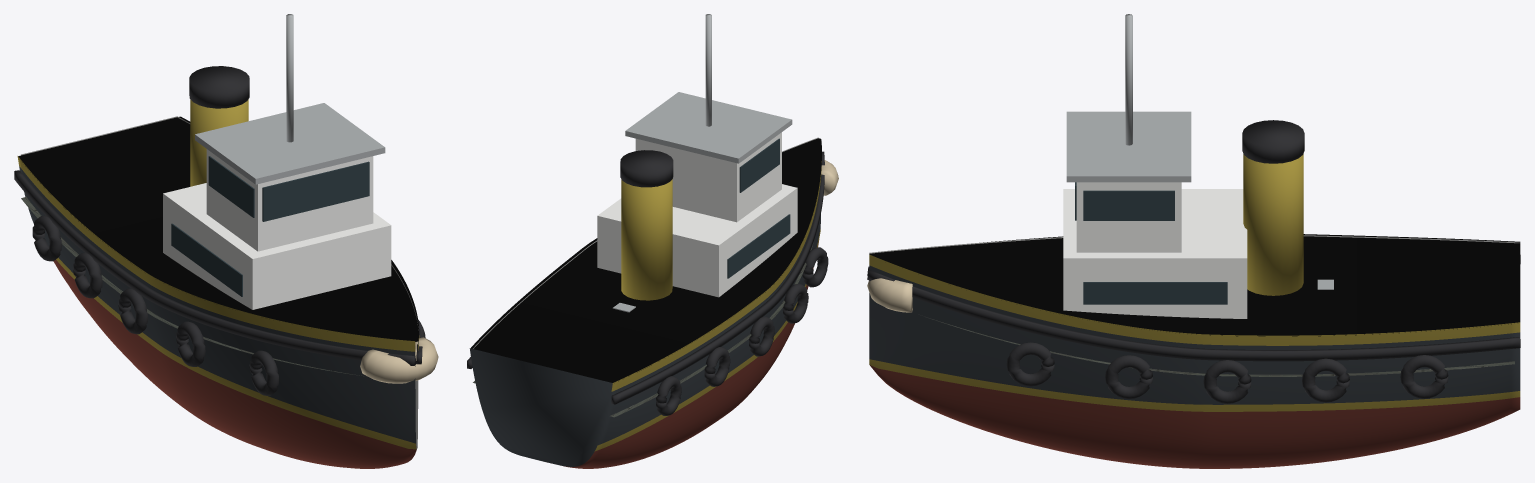
The model's file is tug.glb.
3 renders of one model, left to right at view 1: azimuth 30°, elevation 25°; view 2: azimuth 150°, elevation 25°; view 3: azimuth 270°, elevation 25°, orthographic. The views are drawn at different scales.
Parts seen in each view (by area): view 1: Hull, WaterMask, HouseLower, UpperRoof, HouseUpper, Rubrail.001, UpperWindowsF, FunnelBand, Funnel, BowFender, Window.003, Window.001 (+8 smaller); view 2: Hull, WaterMask, HouseLower, UpperRoof, Funnel, HouseUpper, Rubrail.001, FunnelBand, Window.003, Window.001, Tire.008, Mast (+6 smaller); view 3: Hull, WaterMask, HouseLower, UpperRoof, Funnel, Rubrail, HouseUpper, Window.002, Window, FunnelBand, Tire.003, Tire.002 (+7 smaller).
Boxes of the visible parts, x1,y1,x2,y2 form: Hull: [17, 156, 419, 468]; WaterMask: [18, 116, 419, 341]; HouseLower: [163, 183, 391, 309]; UpperRoof: [195, 103, 385, 184]; HouseUpper: [206, 149, 373, 251]; Rubrail.001: [14, 170, 416, 365]; UpperWindowsF: [262, 161, 369, 221]; FunnelBand: [189, 66, 249, 108]; Funnel: [190, 99, 248, 186]; BowFender: [360, 337, 438, 383]; Window.003: [171, 223, 242, 296]; Window.001: [208, 156, 254, 217]; Hull: [469, 161, 821, 468]; WaterMask: [471, 138, 821, 382]; HouseLower: [597, 184, 797, 297]; UpperRoof: [625, 92, 792, 163]; Funnel: [621, 179, 672, 300]; HouseUpper: [635, 132, 781, 222]; Rubrail.001: [611, 151, 824, 404]; FunnelBand: [620, 150, 673, 187]; Window.003: [727, 214, 790, 278]; Window.001: [739, 138, 779, 192]; Tire.008: [782, 283, 808, 323]; Mast: [705, 14, 711, 126]; Hull: [869, 254, 1520, 468]; WaterMask: [869, 234, 1520, 336]; HouseLower: [1063, 189, 1247, 318]; UpperRoof: [1066, 111, 1191, 182]; Funnel: [1243, 154, 1303, 295]; Rubrail: [867, 270, 1520, 361]; HouseUpper: [1076, 182, 1181, 252]; Window.002: [1083, 282, 1227, 304]; Window: [1083, 190, 1174, 220]; FunnelBand: [1242, 120, 1304, 163]; Tire.003: [1105, 355, 1152, 398]; Tire.002: [1203, 360, 1251, 403].
Bounding box in the file's own units: 4.94 × 8.74 × 11.95.
Materials: 11 (1 with a texture image).
